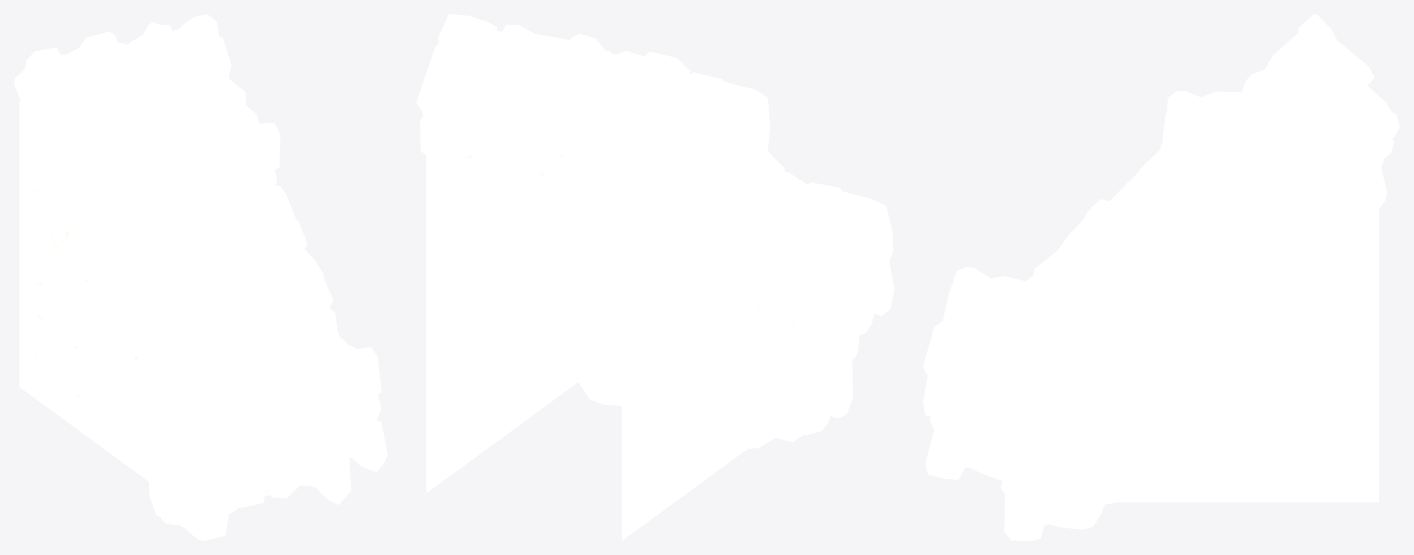
File: Fortress_Wall_01_A.fbx
3 renders of one model, left to right at view 1: azimuth 30°, elevation 25°; view 2: azimuth 150°, elevation 25°; view 3: azimuth 270°, elevation 25°, orthographic. The views are drawn at different scales.
Parts seen in each view (by area): view 1: Dn_HL_Fortress_Wall_01_A.001; view 2: Dn_HL_Fortress_Wall_01_A.001; view 3: Dn_HL_Fortress_Wall_01_A.001.
Boxes of the visible parts, left/top/right/bottom form: Dn_HL_Fortress_Wall_01_A.001: left=14, top=14, right=387, bottom=540; Dn_HL_Fortress_Wall_01_A.001: left=416, top=14, right=894, bottom=540; Dn_HL_Fortress_Wall_01_A.001: left=923, top=14, right=1399, bottom=540.
Bounding box in the file's own units: 4368 × 8302 × 8131.
